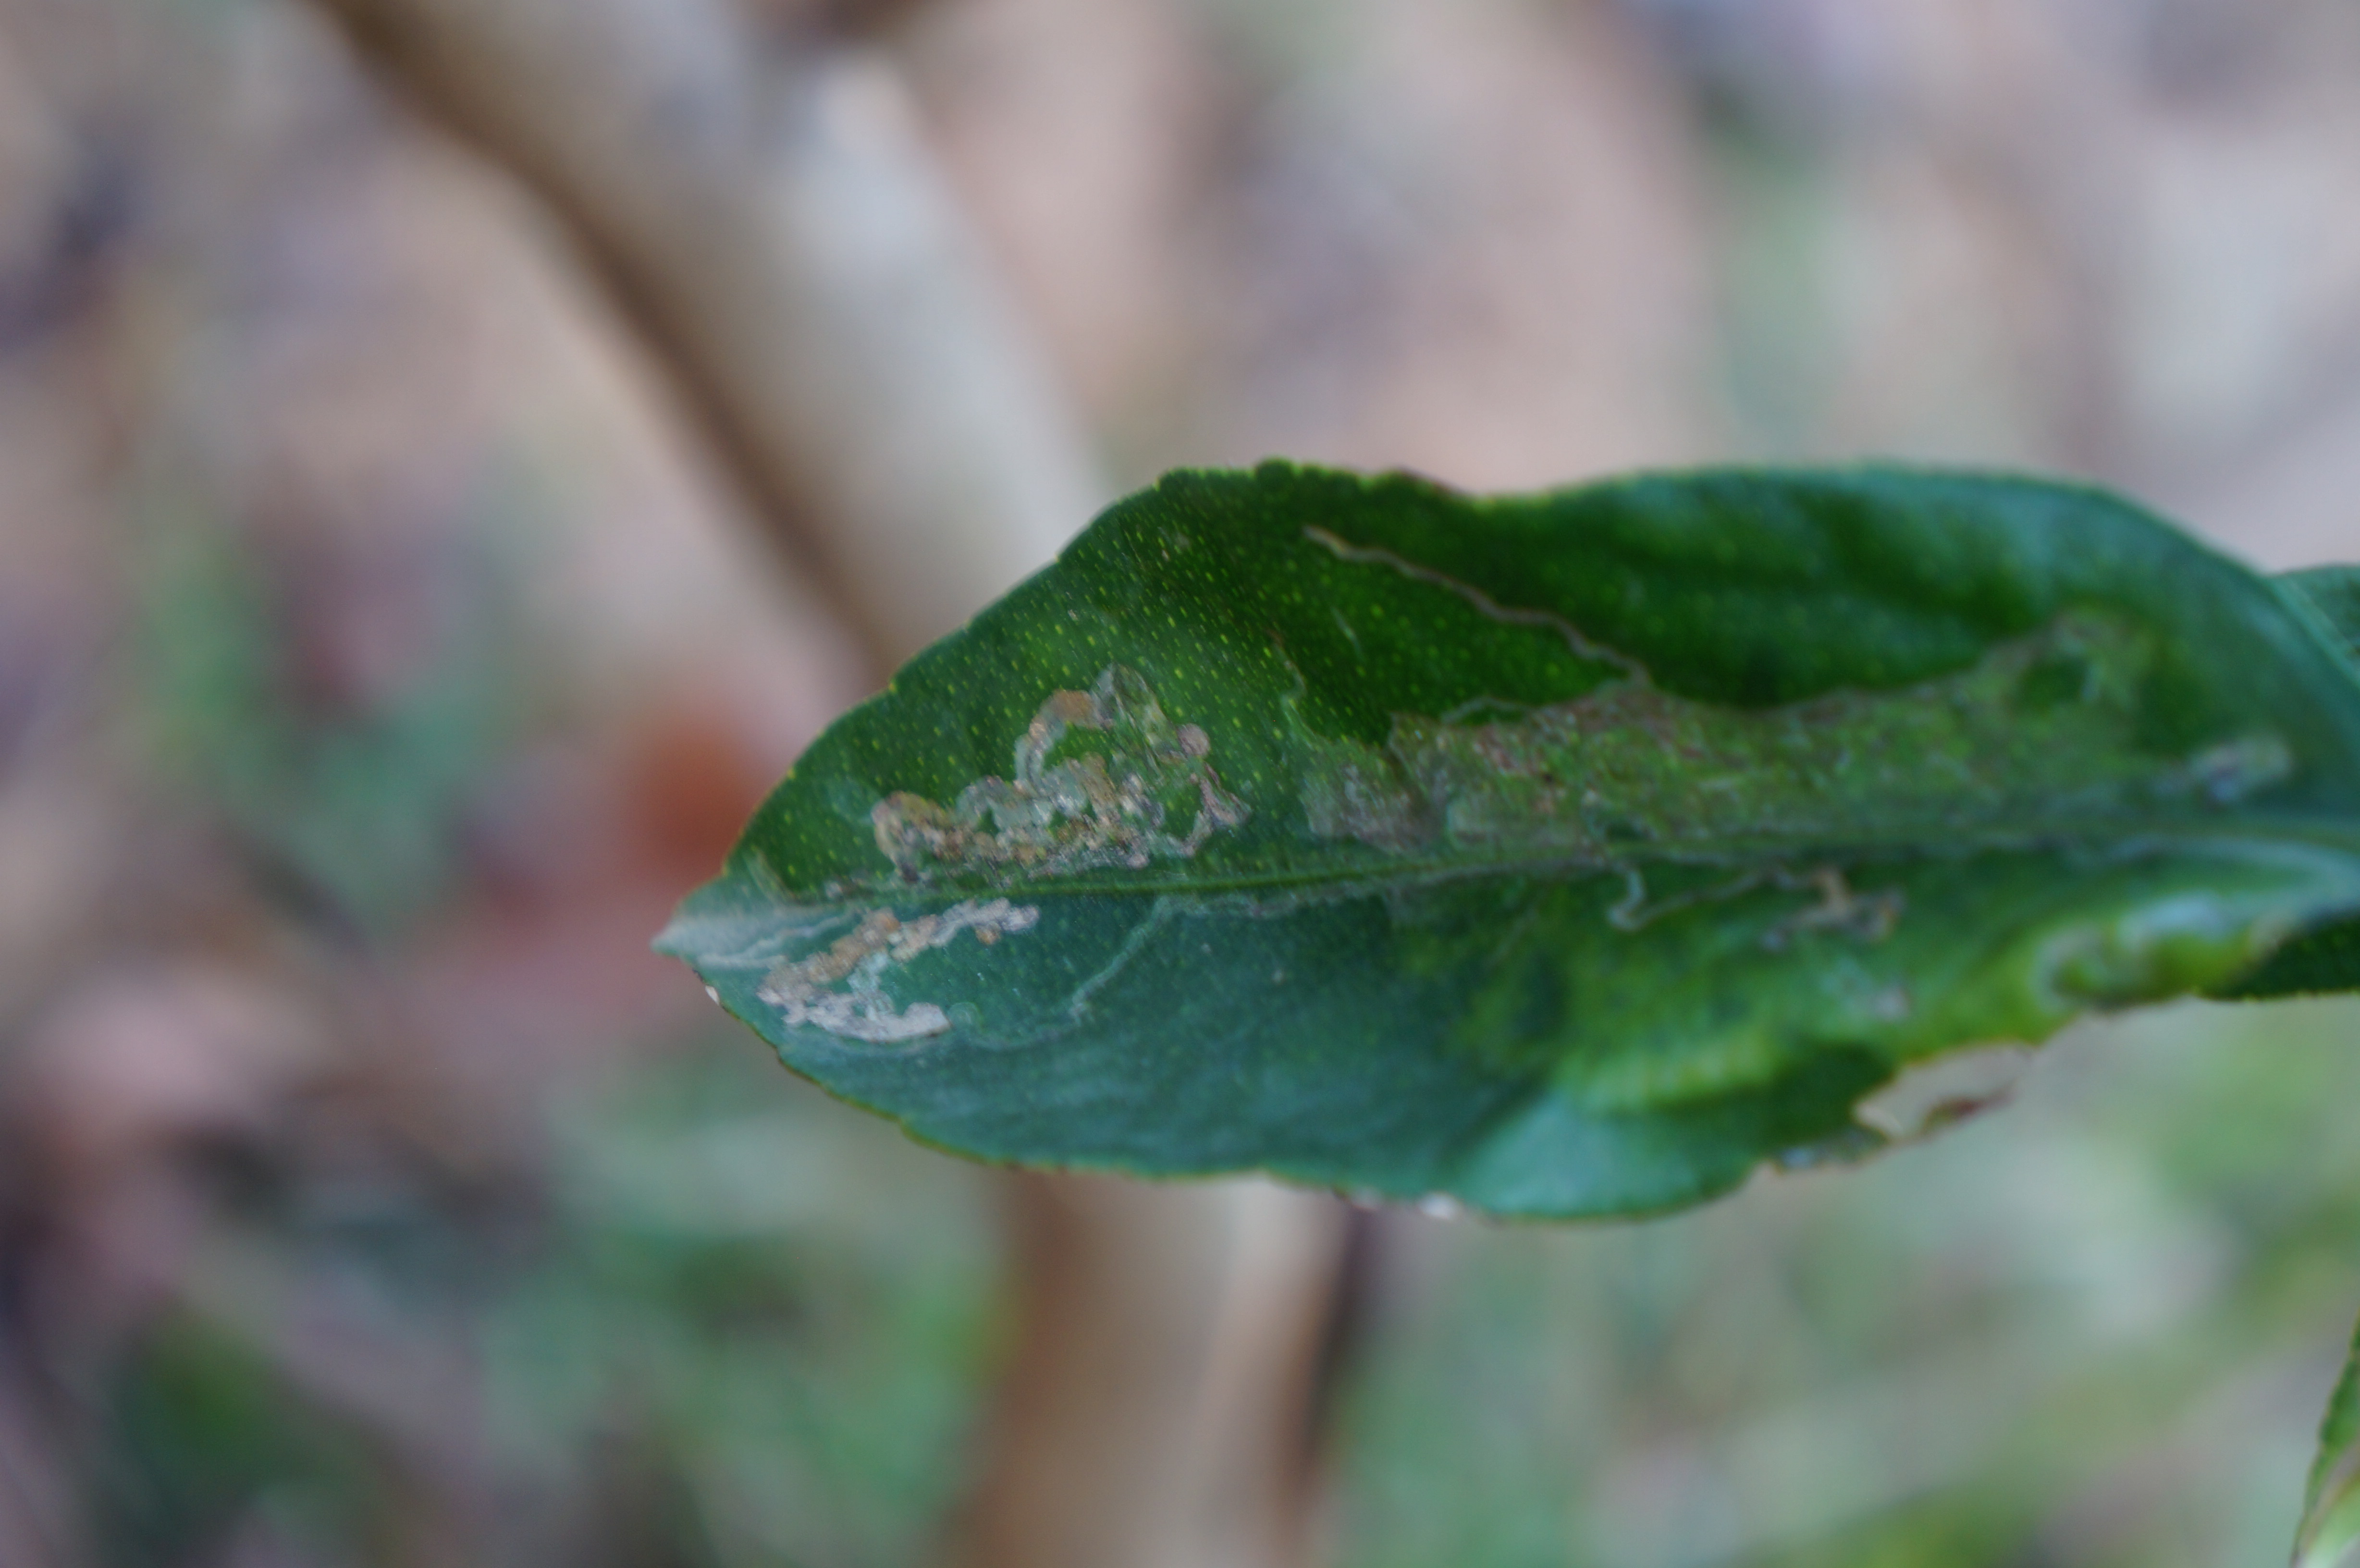damage: (1307, 591, 2313, 919), (723, 658, 1282, 1050)
